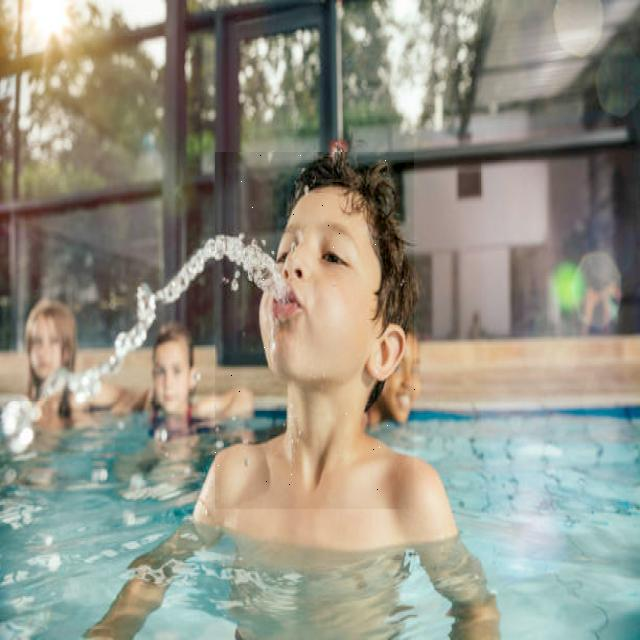Spitting: (216, 152, 416, 509)
